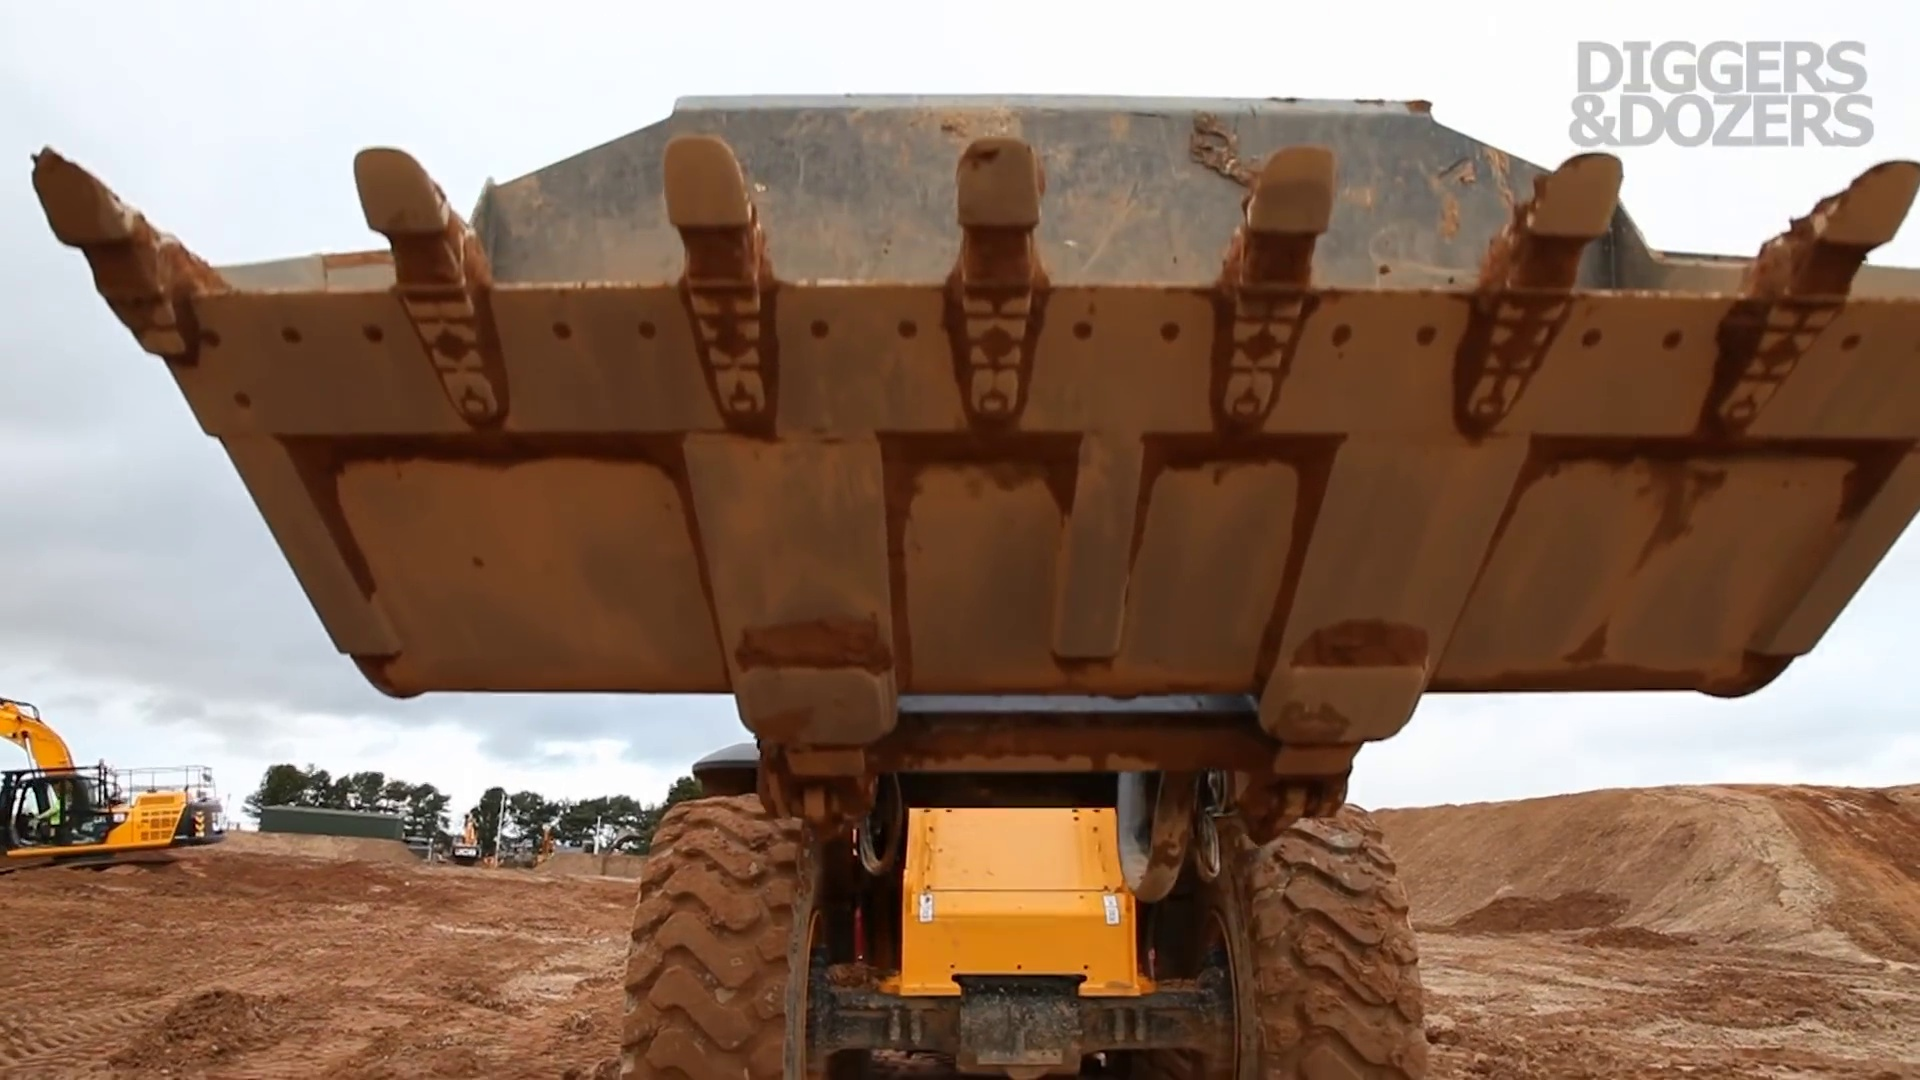excavator: (3, 694, 224, 873)
wheel loader: (30, 90, 1919, 1073)
